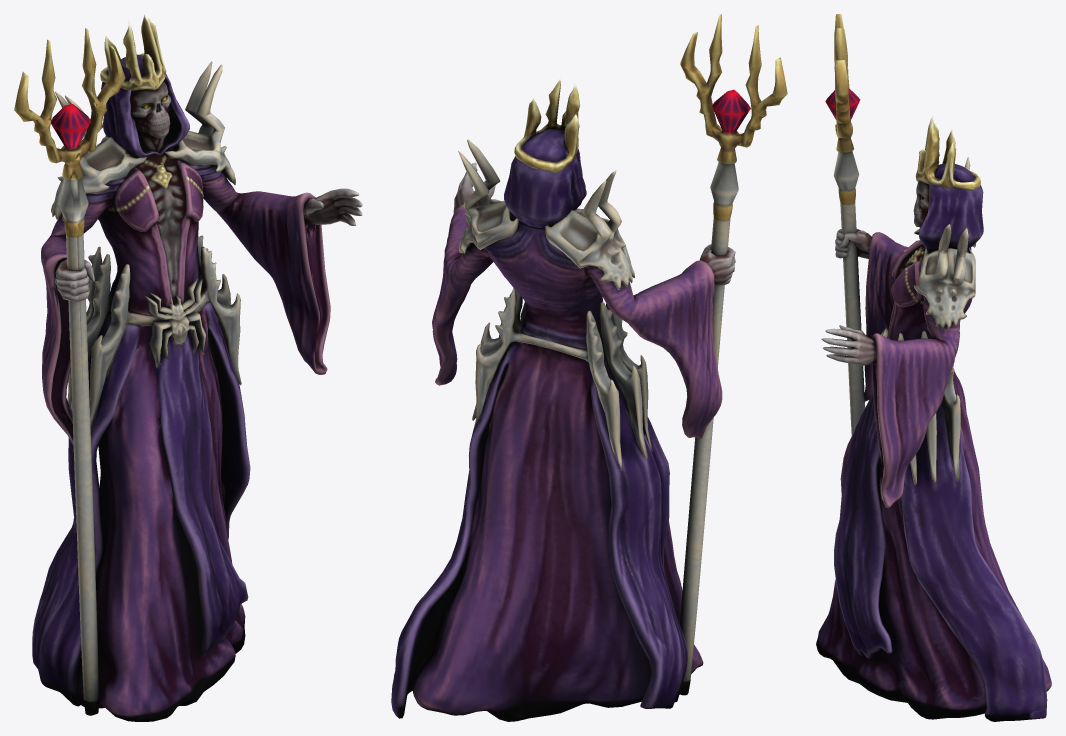
The model's file is MZ4250 - Lich.glb.
3 views of the same model, side by side, from view 1: azimuth 30°, elevation 25°; view 2: azimuth 150°, elevation 25°; view 3: azimuth 270°, elevation 25° (orthographic). The views are drawn at different scales.
Parts seen in each view (by area): view 1: body_high.002, staff_high.002, spider_high.002; view 2: body_high.002, staff_high.002; view 3: body_high.002, staff_high.002.
Part boxes in pixels (<box>): body_high.002: <box>32,14,362,721</box>; staff_high.002: <box>14,28,125,715</box>; spider_high.002: <box>145,278,206,367</box>; body_high.002: <box>391,78,735,721</box>; staff_high.002: <box>680,14,787,695</box>; body_high.002: <box>816,116,1051,721</box>; staff_high.002: <box>825,14,865,435</box>.
Bounding box in the file's own units: 2.98 × 5.91 × 2.08.
Materials: 1 (1 with a texture image).
